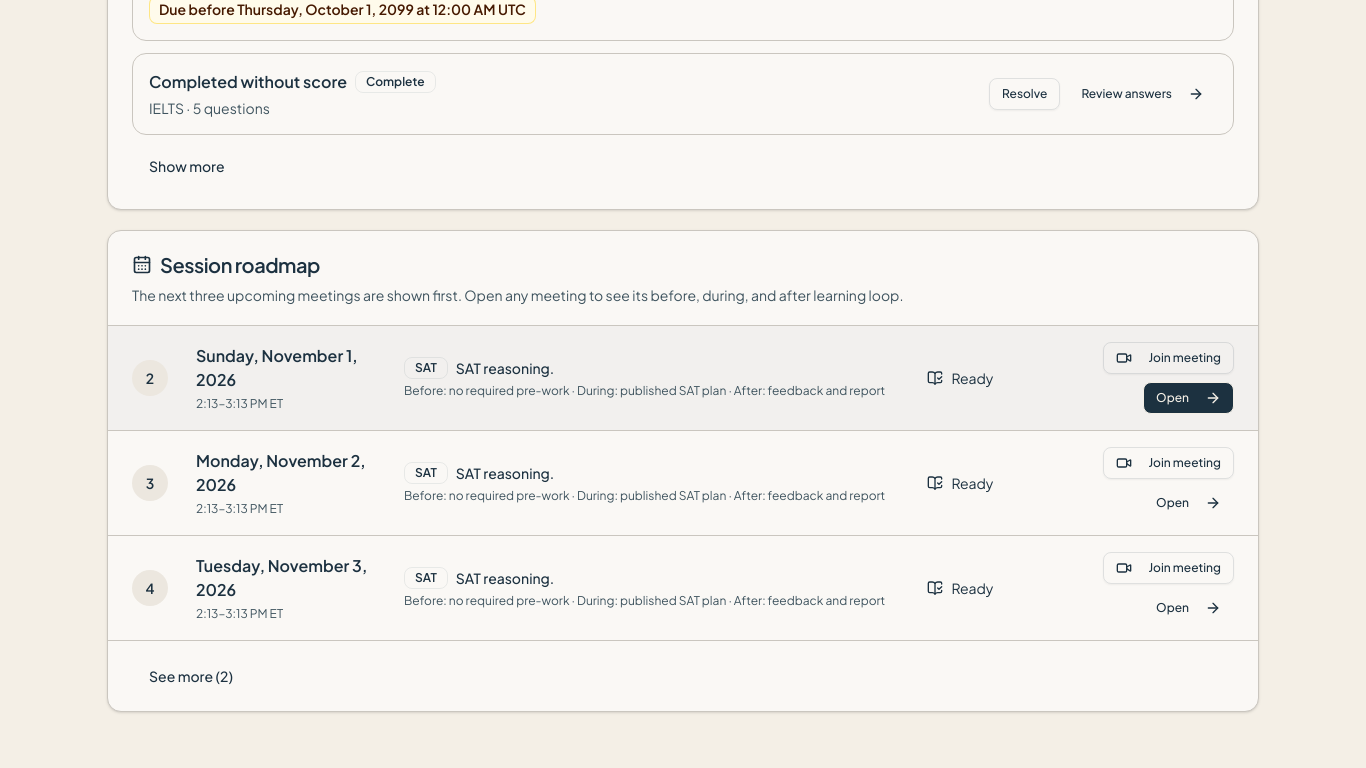
Test case: authenticated role dashboard flows › the session roadmap shows the next three upcoming meetings until See more
(page scrolled)
Expected: the list is shown, [108,326,1258,640]
Expected: the number of list items is 3, [108,326,1258,430]; [108,430,1258,536]; [108,536,1258,640]
Click the button with test id "session-list-show-more". click: click(191, 676)
box: [132,656,250,694]
(page scrolled)
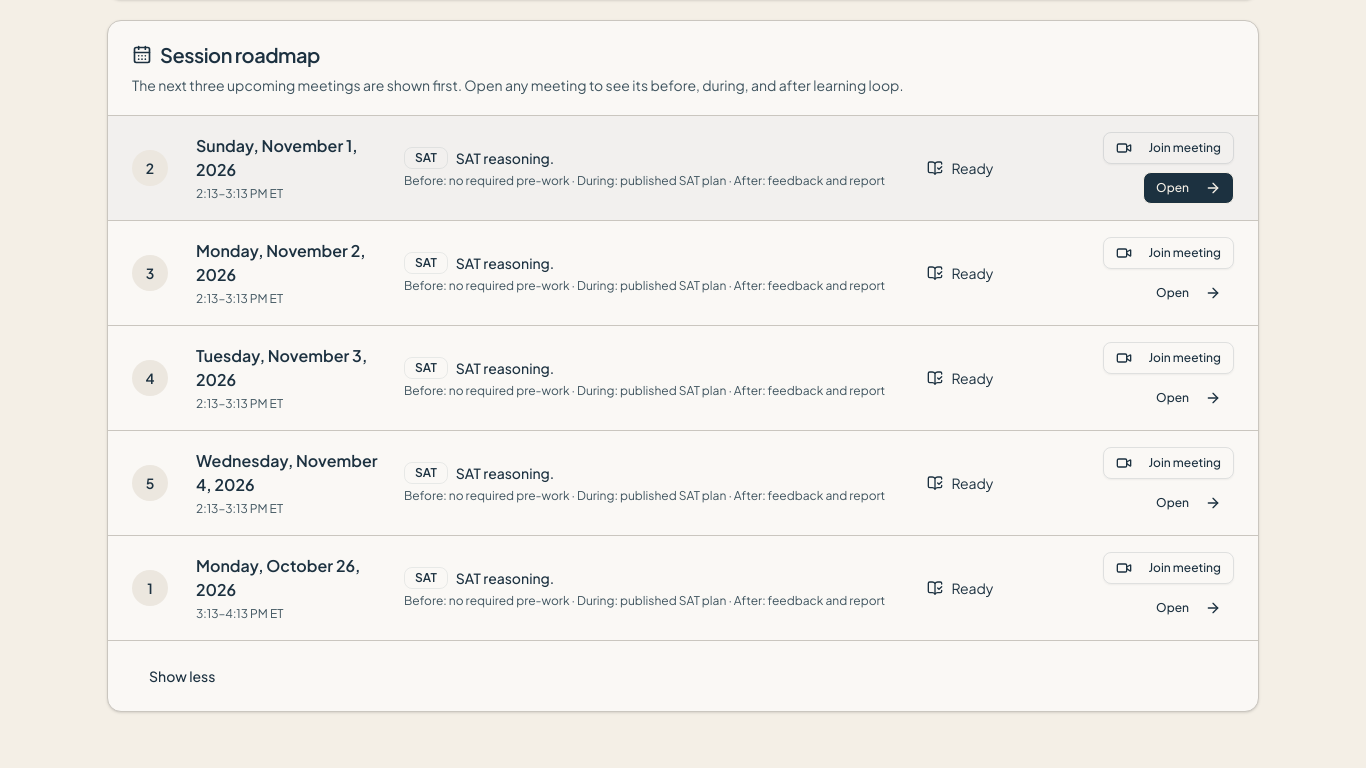
Expected: the number of list items is 5, [108,116,1258,220]; [108,220,1258,326]; [108,326,1258,430]; [108,430,1258,536]; [108,536,1258,640]
Result: the button with test id "session-list-show-more" is expanded
Result: the button with test id "session-list-show-more" reads "Show less"
Click the button with test id "session-list-show-more". click: click(182, 676)
box: [132,656,232,694]
(page scrolled)
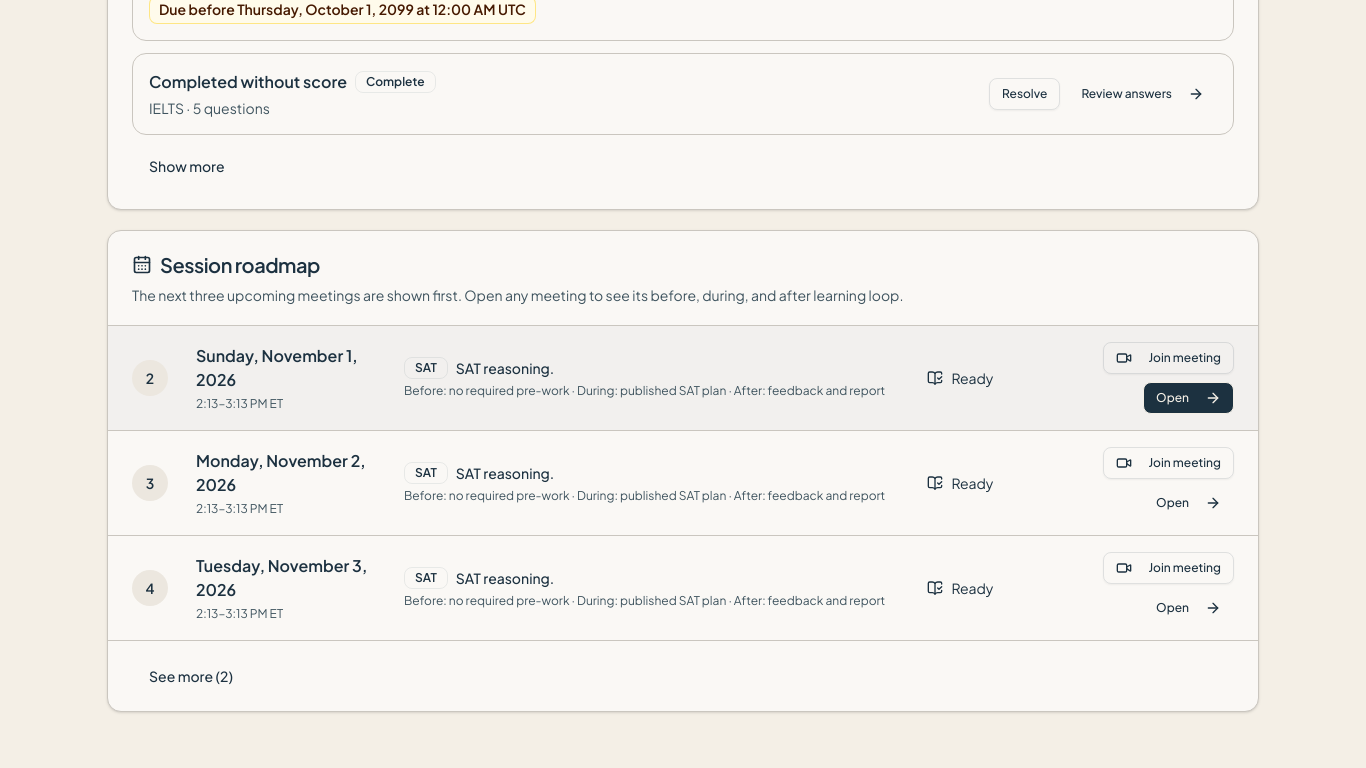
Expected: the number of list items is 3, [108,326,1258,430]; [108,430,1258,536]; [108,536,1258,640]
Result: the button with test id "session-list-show-more" is collapsed at [132,656,250,694]
